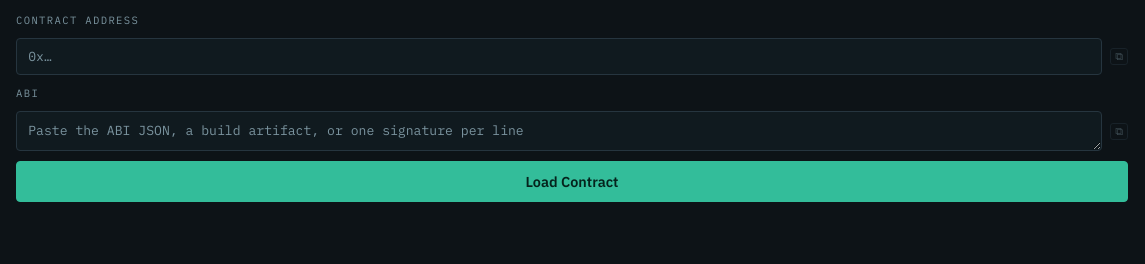
an ABI with no error types loads but warns
Type "0xF3001f12221A3390CAE2daed751a4A3fC967f8C7" into the field labelled "Contract address" at (559, 57), box [16,38,1102,75]
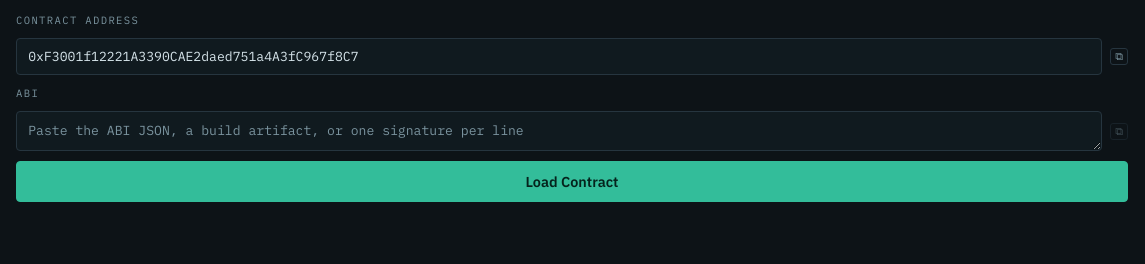
Replace the text in the text box labelled "ABI" with "function setPolicy(address token)" at (559, 131), box [16,111,1102,151]
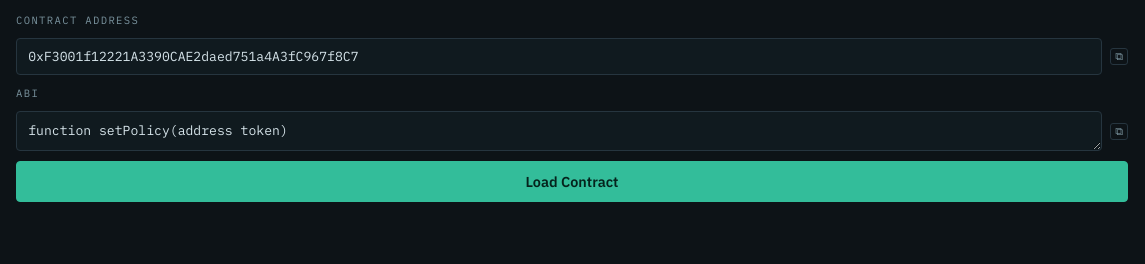
Click the button "Load Contract" at (572, 182), box [16,161,1128,202]
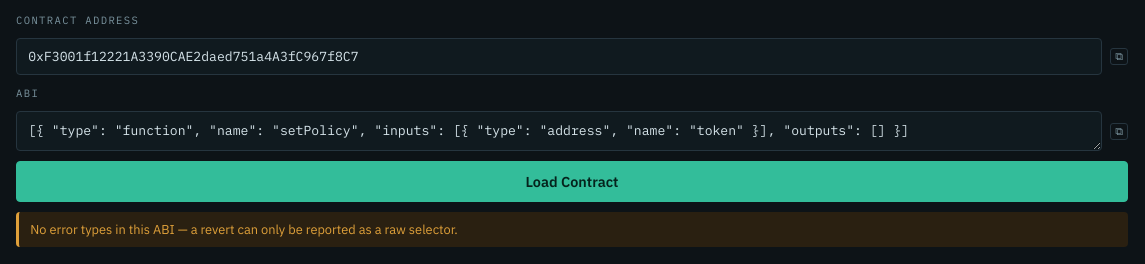
Result: the text "No error types in this ABI" is shown at [30,221,458,238]
